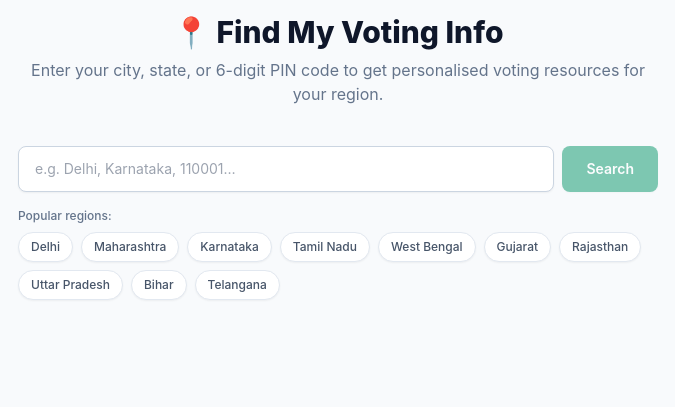
Test: VotingInfoPage › shows error message for 404 response
Type "Atlantis" into the field named "city, state, or pin code".
click(286, 169); type("Atlantis")  # box top-left (18, 146), bottom-right (554, 192)
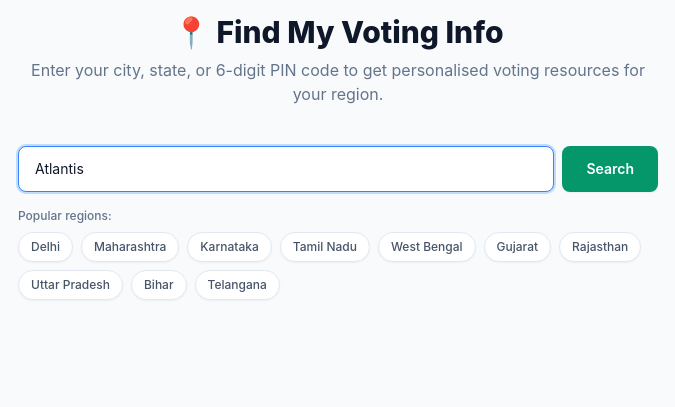
Click the button "Search".
click(610, 169)  # box top-left (562, 146), bottom-right (658, 192)
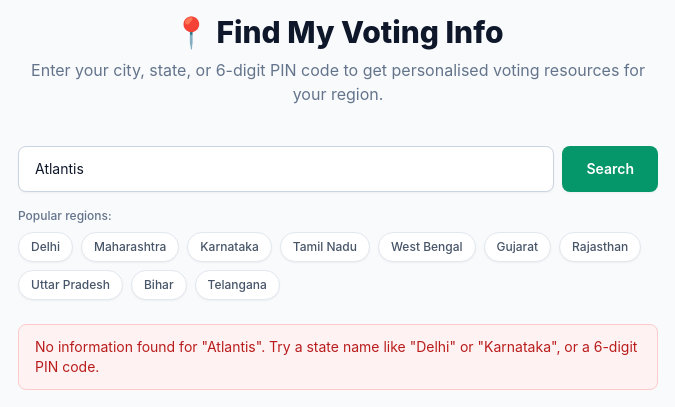
expect the message shows "No information found": met, box top-left (35, 338), bottom-right (637, 375)
